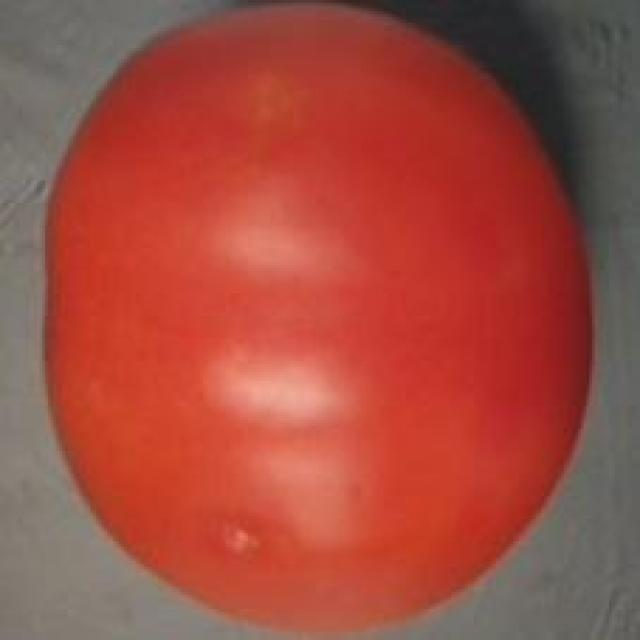ripe tomato: (31, 0, 601, 640)
